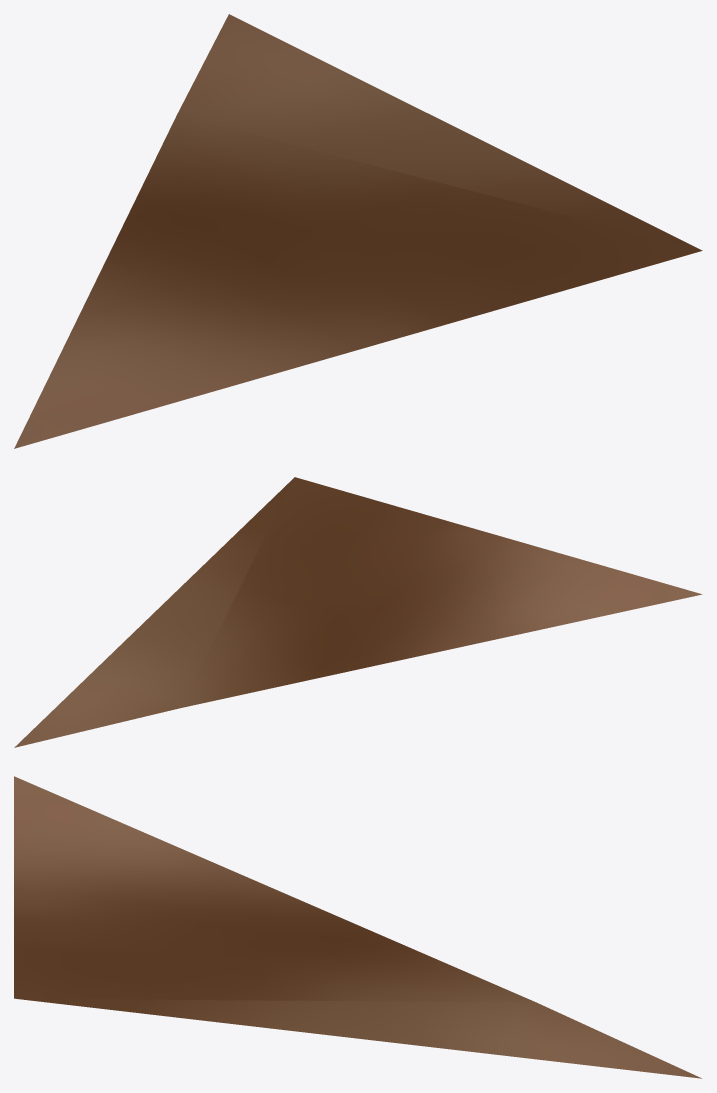
3 views of the same model, one above another, from view 1: azimuth 30°, elevation 25°; view 2: azimuth 150°, elevation 25°; view 3: azimuth 270°, elevation 25° (orthographic). The views are drawn at different scales.
Size of the model in its own units: 0.0592 by 0.00905 by 0.0705.
1 material, 1 textured.
